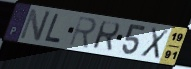5: (121, 22, 148, 57)
L: (43, 13, 63, 44)
N: (17, 7, 52, 43)
R: (67, 15, 98, 50), (91, 20, 121, 53)
X: (138, 26, 171, 61)
